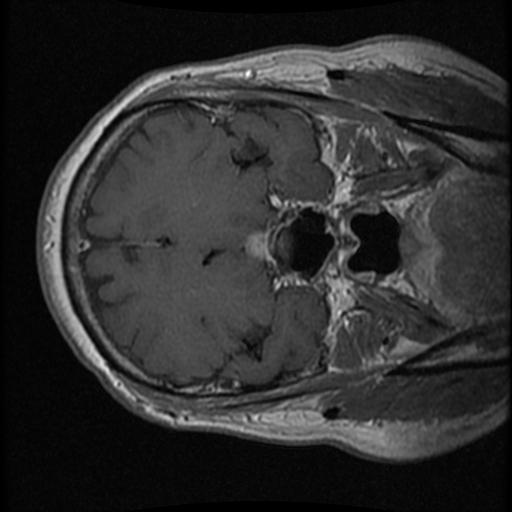pituitary tumour: (246, 230, 294, 259)
